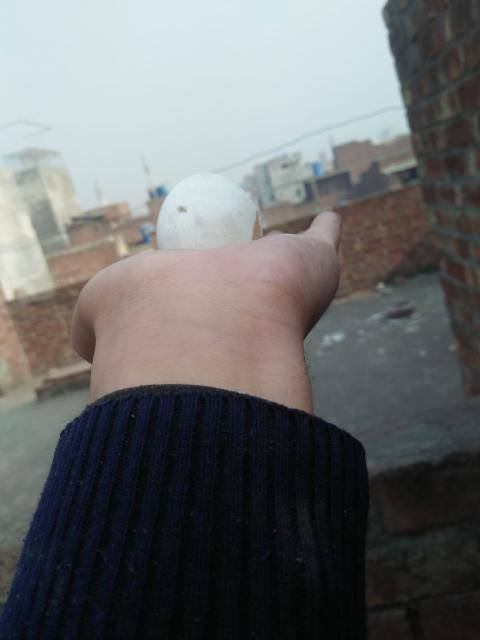Roto: (155, 173, 260, 251)
